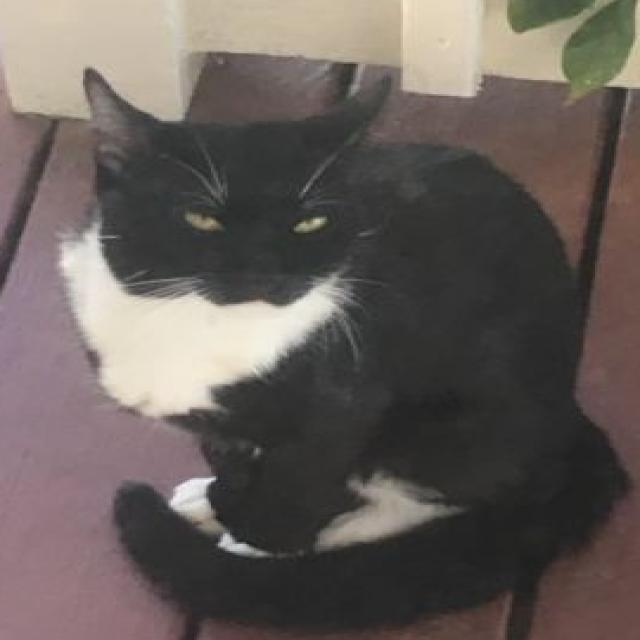Tuxedo: (56, 61, 632, 626)
